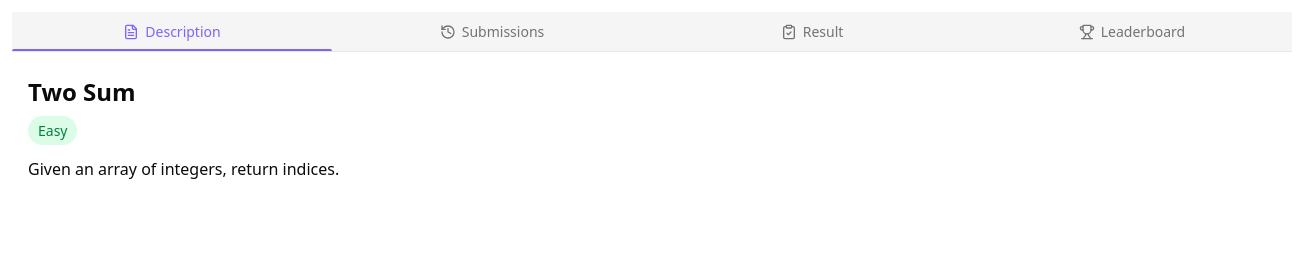
it: CodeDescArea — tab switching › switches to result tab
Check: the element with test id "tabs-list" is shown, box x1=12 y1=12 x2=1292 y2=52
Click the tab "Result" at {"x": 812, "y": 32}, box x1=652 y1=12 x2=972 y2=51
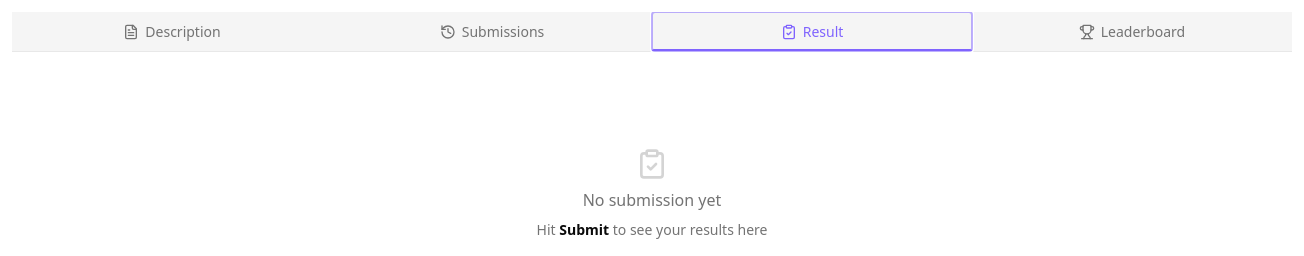
Check: the panel with test id "tabs-content-result" is shown, box x1=536 y1=148 x2=767 y2=239
